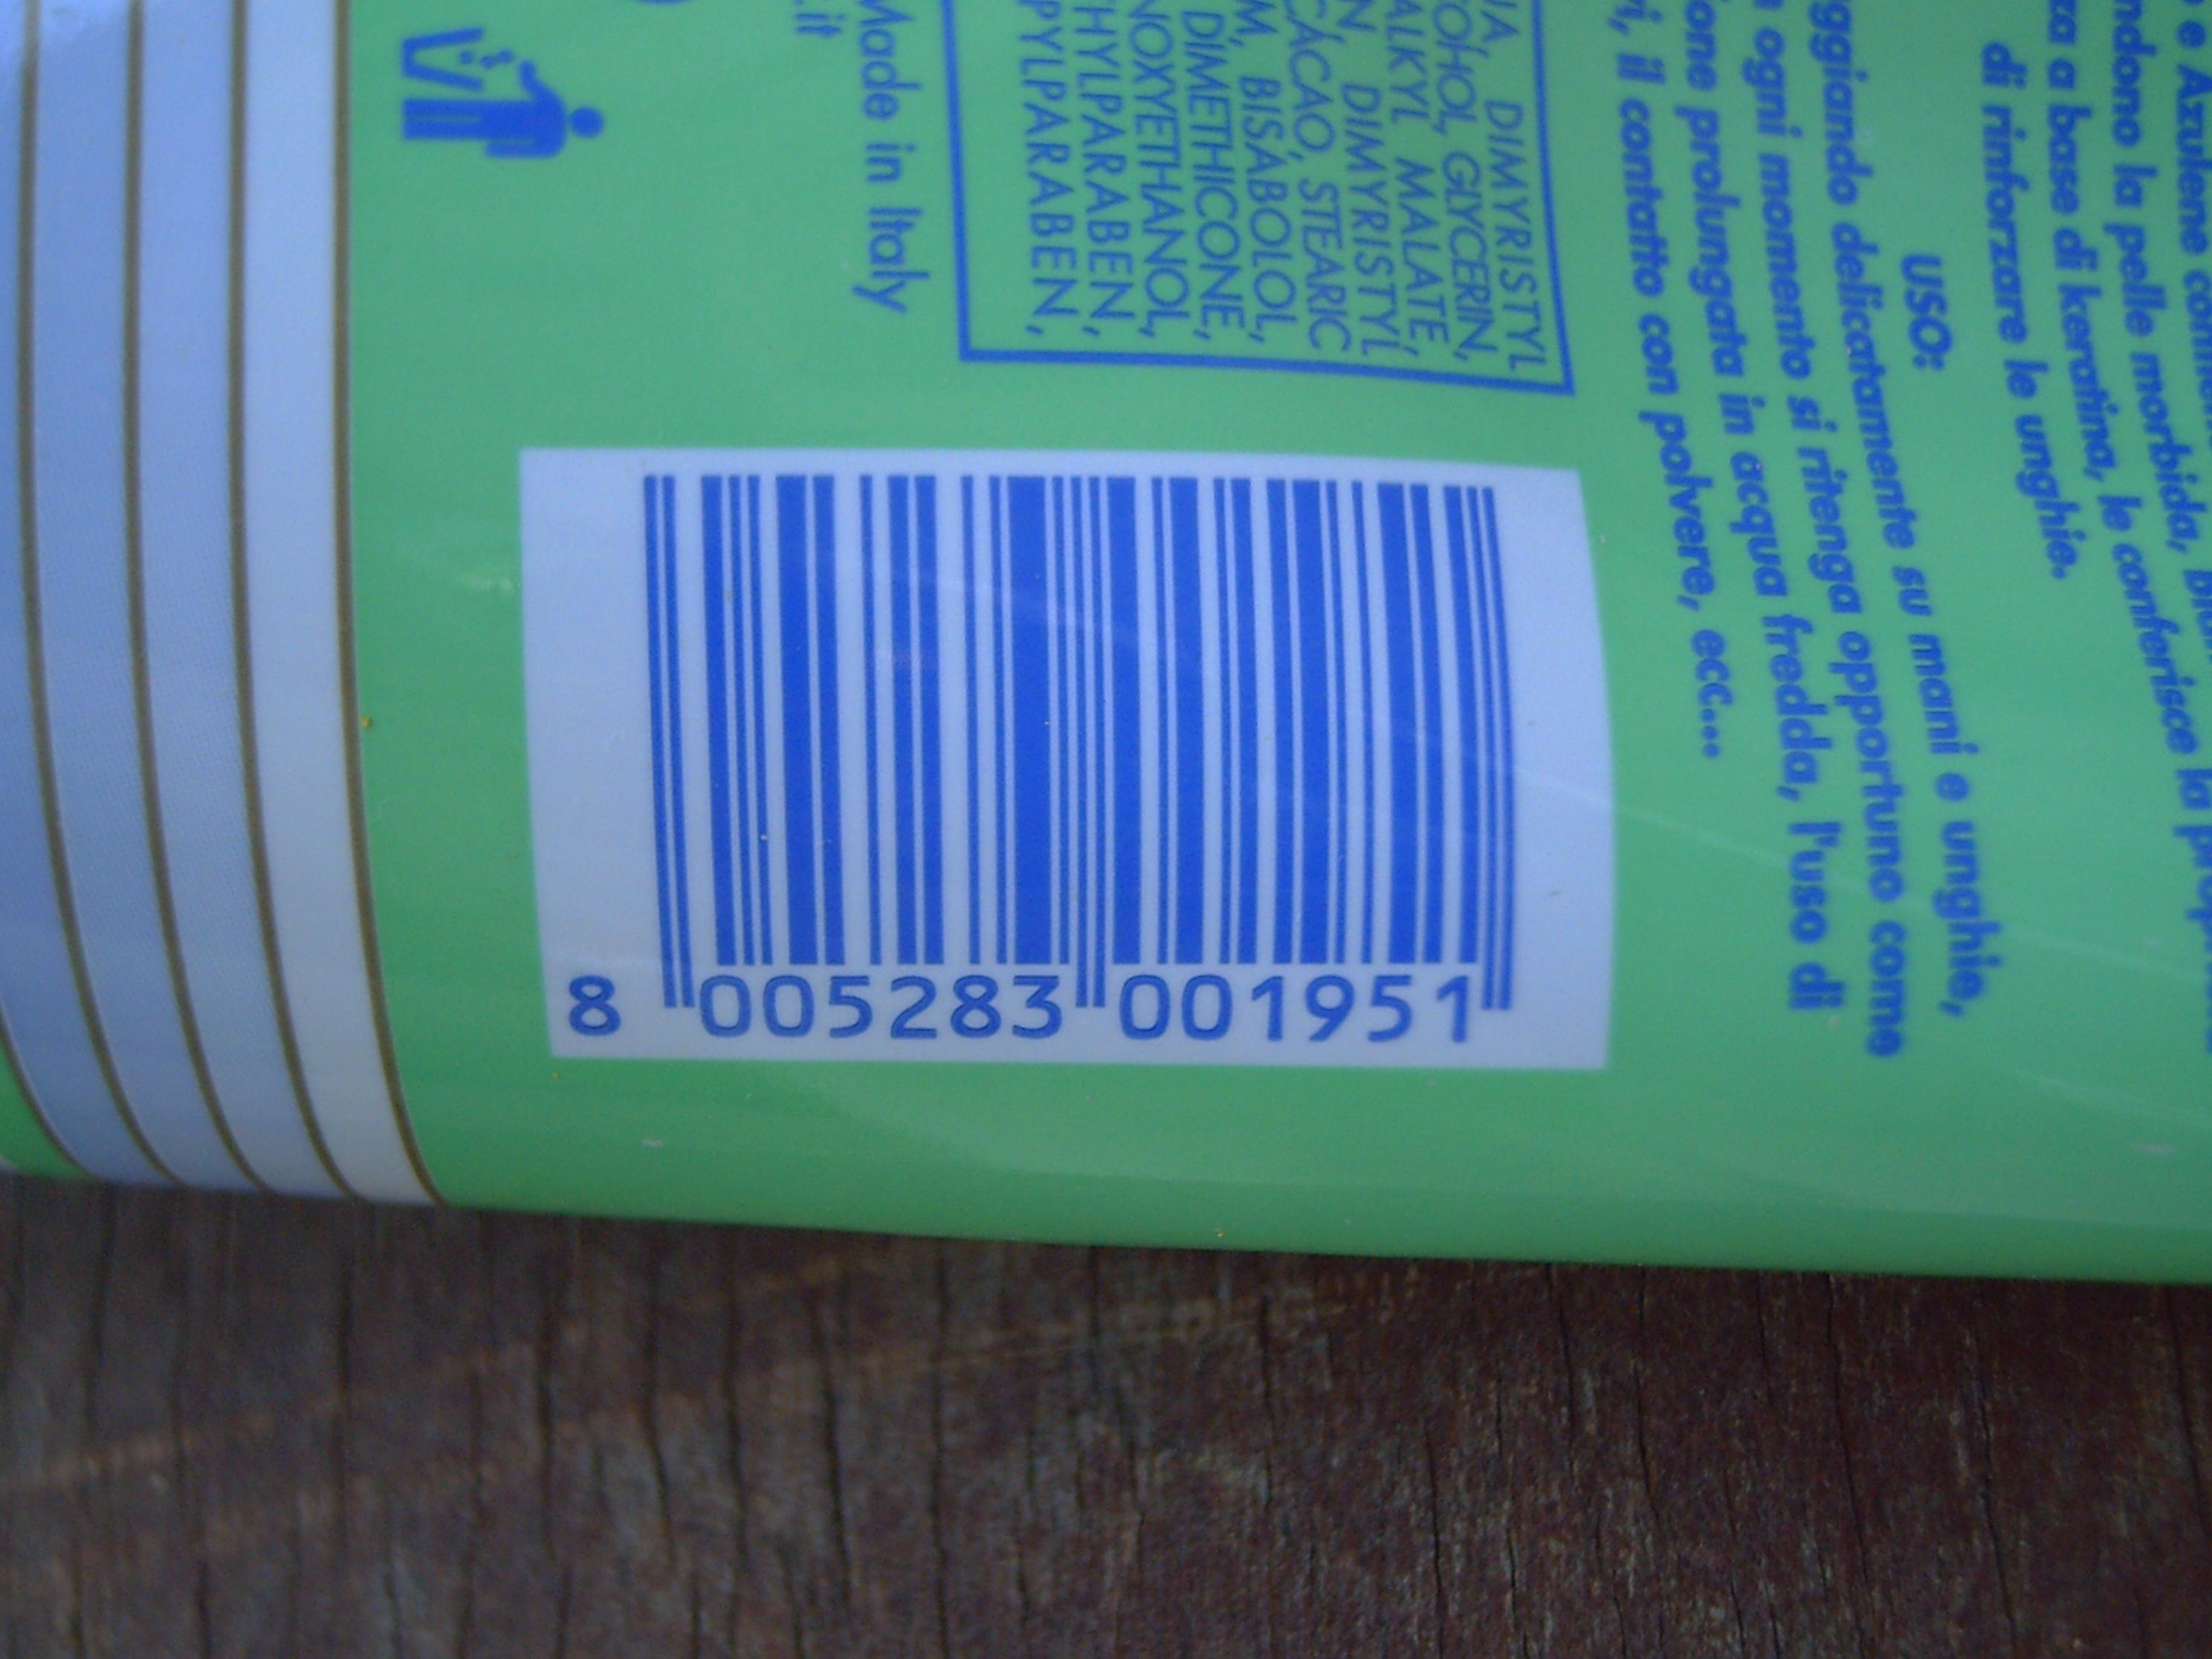barcode: (521, 446, 1622, 1072)
